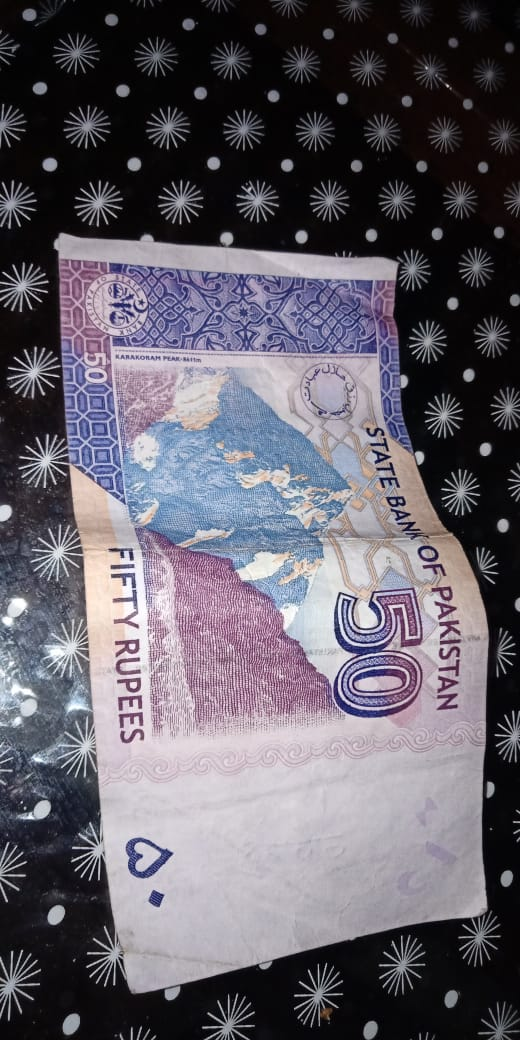50 rupee: (32, 208, 488, 1038)
